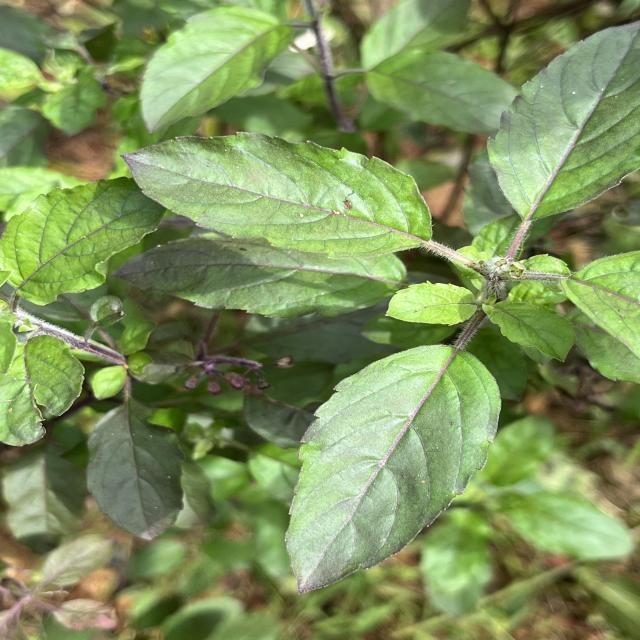Ocimum tenuiflorum: (282, 342, 506, 595), (118, 129, 436, 262)
